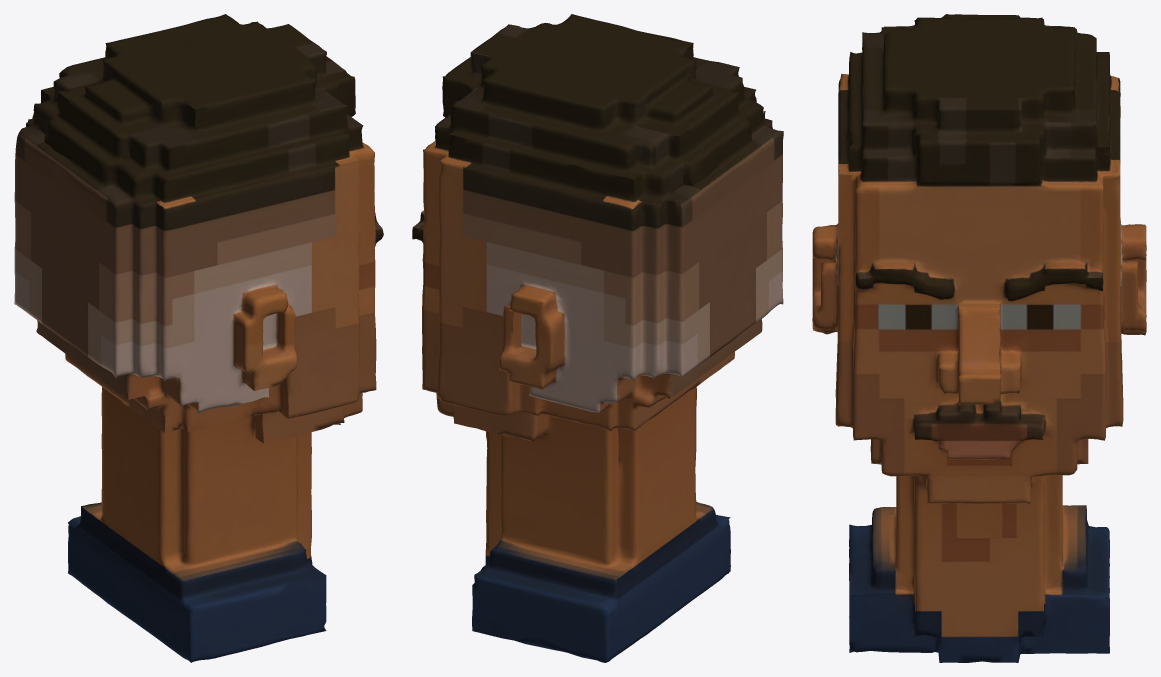
File: ref.glb
3 renders of one model, left to right at view 1: azimuth 30°, elevation 25°; view 2: azimuth 150°, elevation 25°; view 3: azimuth 270°, elevation 25°, orthographic. The views are drawn at different scales.
Parts seen in each view (by area): view 1: tripo_node_1730180b-e4a0-4812-af98-c87651de3345; view 2: tripo_node_1730180b-e4a0-4812-af98-c87651de3345; view 3: tripo_node_1730180b-e4a0-4812-af98-c87651de3345.
Boxes of the visible parts, <box> form: tripo_node_1730180b-e4a0-4812-af98-c87651de3345: <box>14,14,383,662</box>; tripo_node_1730180b-e4a0-4812-af98-c87651de3345: <box>412,14,783,662</box>; tripo_node_1730180b-e4a0-4812-af98-c87651de3345: <box>812,14,1146,662</box>.
Size of the model in its own units: 0.5828 by 1 by 0.533.
Materials: 1 (1 with a texture image).
